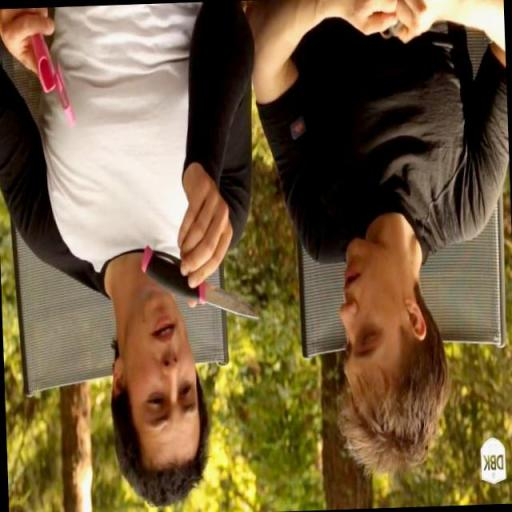knife: (134, 226, 264, 336)
